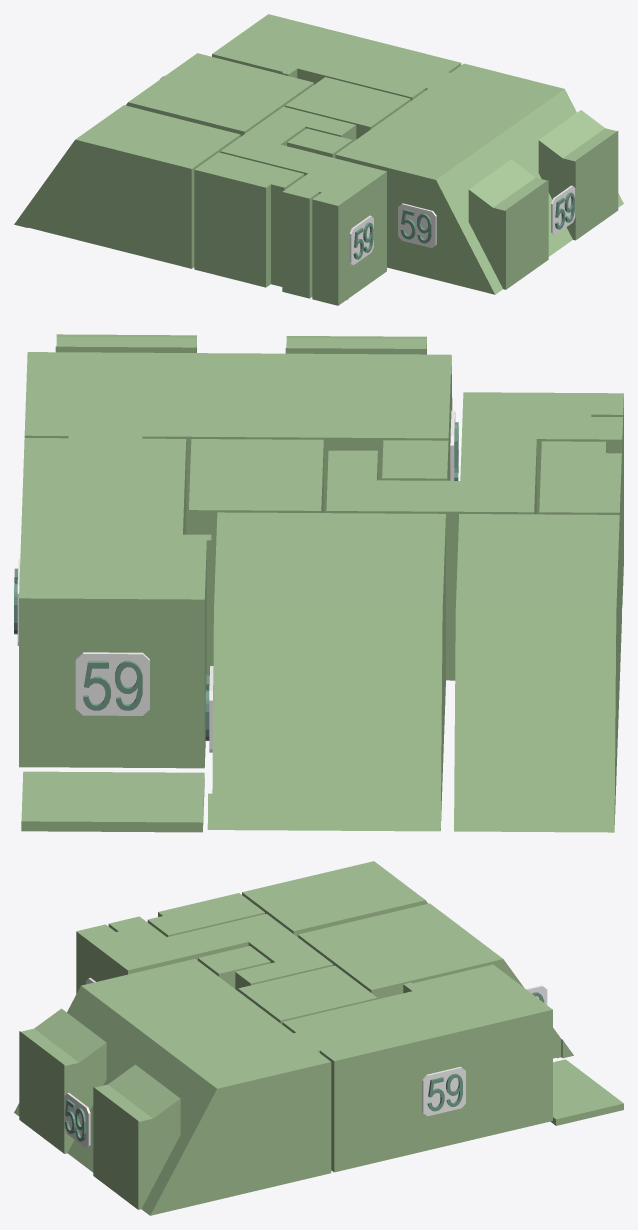
3 renders of one model, top to bottom at view 1: azimuth 30°, elevation 25°; view 2: azimuth 150°, elevation 25°; view 3: azimuth 270°, elevation 25°, orthographic. The views are drawn at different scales.
Parts seen in each view (by area): view 1: g_0, g_3, g_5, g_7, g_1, g_2, g_4, g_6, g_20, g_23, g_26; view 2: g_2, g_1, g_3, g_0, g_5, g_4, g_8, g_7, g_14, g_6, g_13, g_12; view 3: g_0, g_1, g_2, g_5, g_3, g_4, g_8, g_7, g_6, g_11, g_26.
Boxes of the visible parts, left/top/right/bottom form: g_0: left=335, top=63, right=623, bottom=294; g_3: left=14, top=105, right=240, bottom=268; g_5: left=220, top=106, right=386, bottom=305; g_7: left=194, top=152, right=304, bottom=287; g_1: left=212, top=14, right=461, bottom=100; g_2: left=126, top=53, right=313, bottom=136; g_4: left=285, top=77, right=410, bottom=139; g_6: left=287, top=128, right=352, bottom=158; g_20: left=398, top=203, right=436, bottom=247; g_23: left=349, top=215, right=373, bottom=265; g_26: left=551, top=185, right=575, bottom=234; g_2: left=207, top=512, right=445, bottom=831; g_1: left=19, top=437, right=211, bottom=768; g_3: left=454, top=514, right=619, bottom=832; g_0: left=24, top=334, right=452, bottom=534; g_5: left=326, top=392, right=623, bottom=680; g_4: left=189, top=439, right=323, bottom=665; g_8: left=21, top=771, right=204, bottom=832; g_7: left=539, top=441, right=621, bottom=680; g_14: left=75, top=652, right=149, bottom=715; g_6: left=382, top=440, right=448, bottom=480; g_13: left=115, top=660, right=142, bottom=710; g_12: left=83, top=661, right=110, bottom=710; g_0: left=14, top=959, right=331, bottom=1215; g_1: left=282, top=964, right=552, bottom=1172; g_2: left=298, top=903, right=573, bottom=1058; g_5: left=76, top=914, right=333, bottom=993; g_3: left=242, top=861, right=427, bottom=936; g_4: left=238, top=965, right=377, bottom=1024; g_8: left=550, top=1059, right=623, bottom=1125; g_7: left=147, top=893, right=264, bottom=936; g_6: left=198, top=946, right=270, bottom=988; g_11: left=422, top=1066, right=465, bottom=1116; g_26: left=64, top=1093, right=90, bottom=1148.
Bounding box in the file's own units: 12.75 × 2.71 × 12.64.
